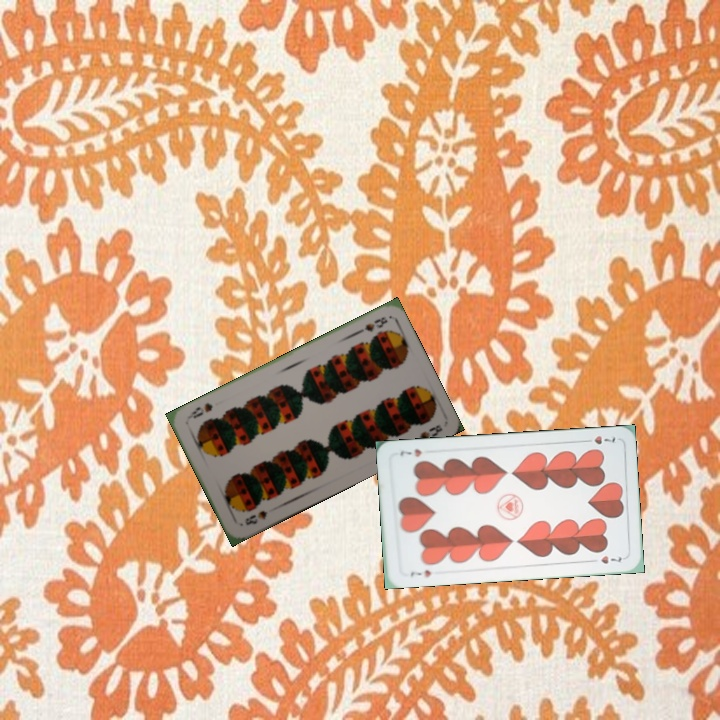H7: (579, 432, 618, 447), (406, 566, 433, 580)
S8: (352, 312, 390, 337), (241, 506, 270, 528)
